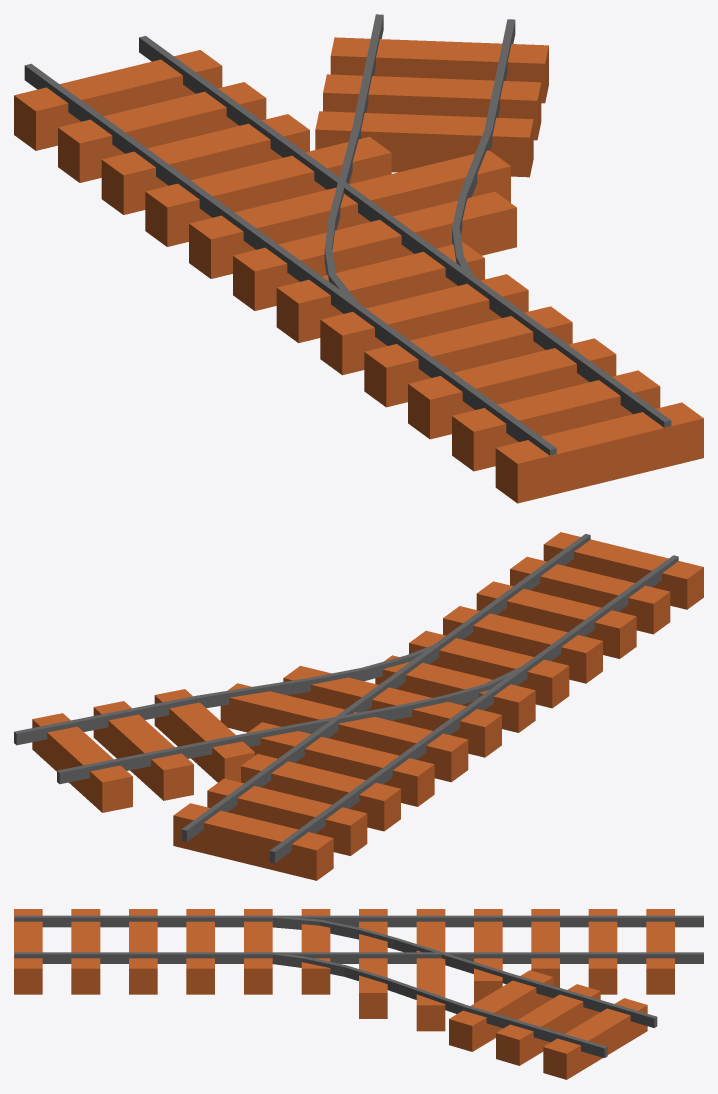
Rendered from raildivide.fbx.
3 renders of one model, top to bottom at view 1: azimuth 30°, elevation 25°; view 2: azimuth 150°, elevation 25°; view 3: azimuth 270°, elevation 25°, orthographic. The views are drawn at different scales.
Visible parts, largest first — view 1: Cube, Cube.001, Cube.003; view 2: Cube, Cube.001, Cube.003; view 3: Cube, Cube.003, Cube.001.
Part boxes in pixels (<box>): Cube: <box>145,125,703,503</box>; Cube.001: <box>14,36,309,214</box>; Cube.003: <box>315,14,548,177</box>; Cube: <box>197,532,703,806</box>; Cube.001: <box>173,754,400,880</box>; Cube.003: <box>14,689,254,812</box>; Cube: <box>14,909,531,1031</box>; Cube.003: <box>449,970,657,1079</box>; Cube.001: <box>531,909,703,994</box>.
Size of the model in its own units: 1193 by 115 by 2401.
